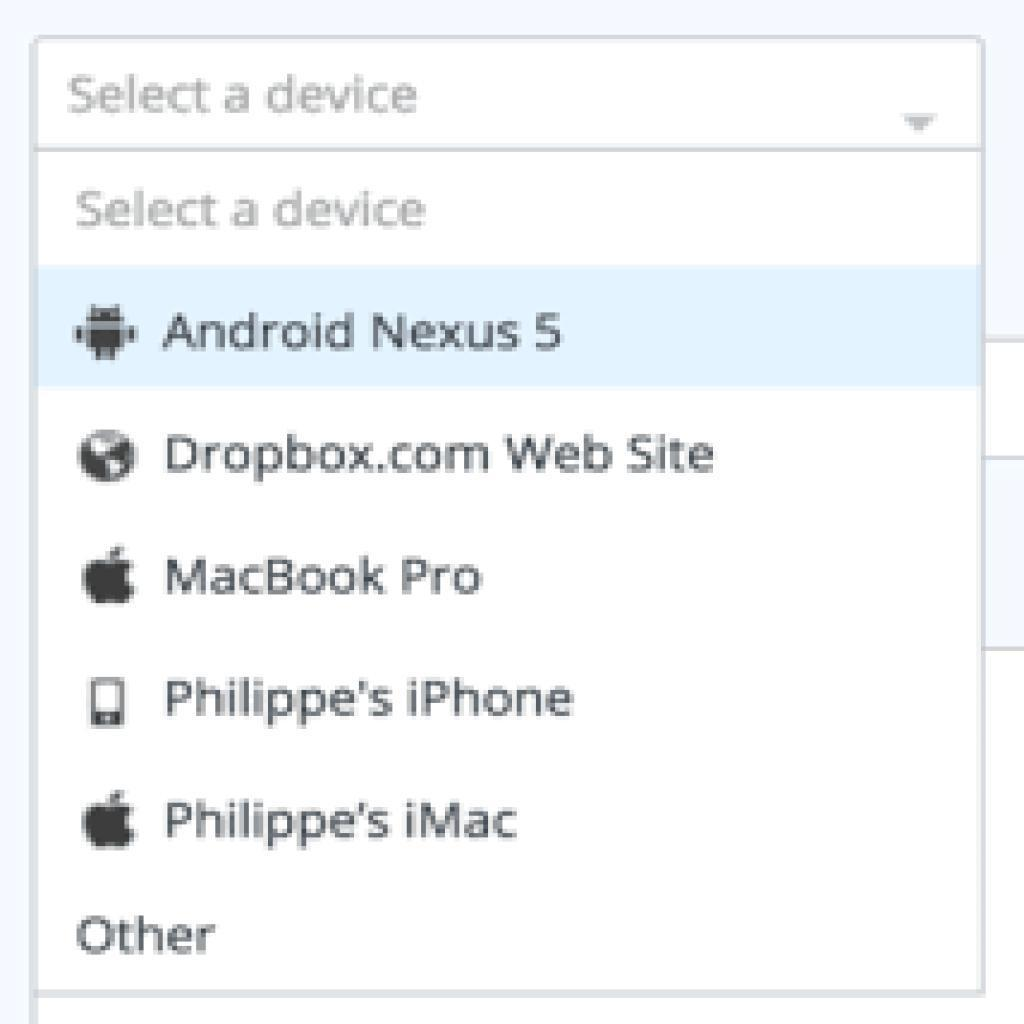dropdown: (37, 38, 979, 152)
icon: (65, 772, 147, 866), (56, 291, 152, 370), (72, 534, 154, 623), (70, 411, 150, 498), (75, 671, 138, 740)
label: (155, 425, 719, 487), (163, 672, 578, 737), (166, 307, 577, 372), (164, 794, 520, 854), (160, 550, 488, 608), (76, 907, 217, 965)
